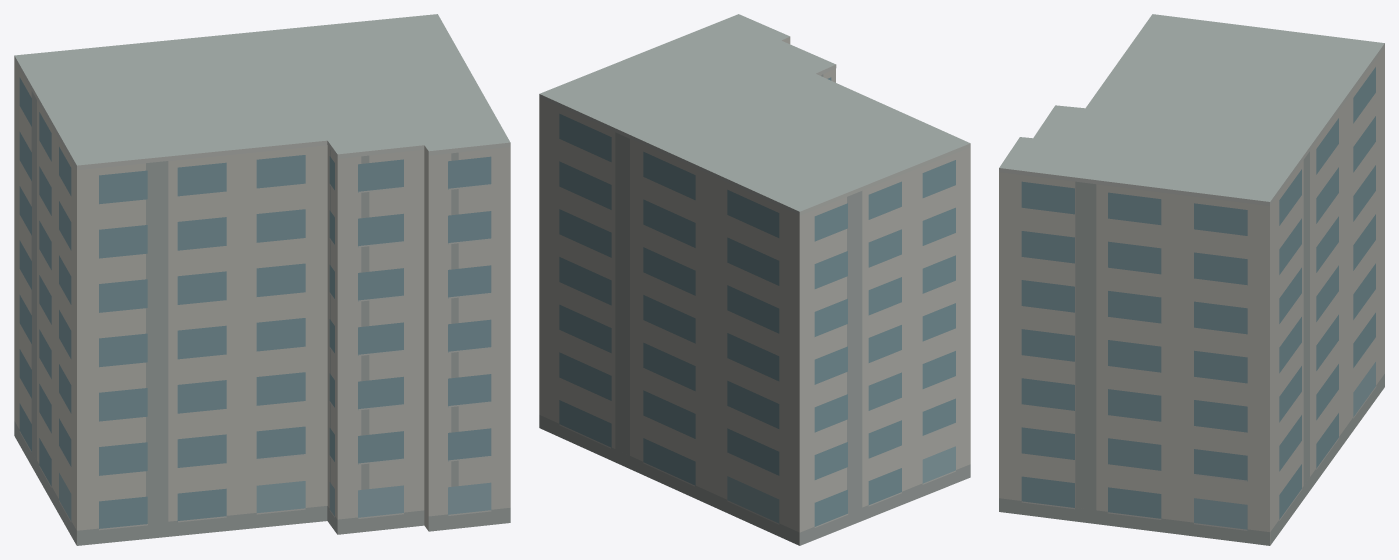
Rendered from survey-upis-32870980.glb.
3 views of the same model, side by side, from view 1: azimuth 30°, elevation 25°; view 2: azimuth 150°, elevation 25°; view 3: azimuth 270°, elevation 25° (orthographic). The views are drawn at different scales.
Parts seen in each view (by area): view 1: survey-upis-32870980.tmp; view 2: survey-upis-32870980.tmp; view 3: survey-upis-32870980.tmp.
Part boxes in pixels (box(x1,y1,x2,y2)): survey-upis-32870980.tmp: box(14, 14, 510, 545); survey-upis-32870980.tmp: box(539, 14, 970, 545); survey-upis-32870980.tmp: box(999, 14, 1384, 545).
Size of the model in its own units: 24.16 by 20.6 by 20.95.
